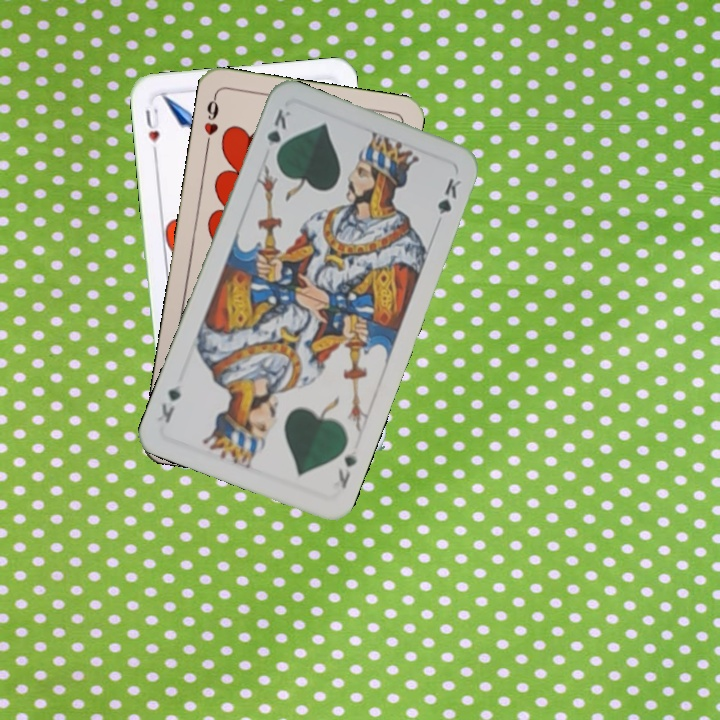GK: (263, 104, 294, 162), (333, 451, 360, 492)
H9: (200, 91, 222, 150)
HU: (141, 103, 162, 157)
